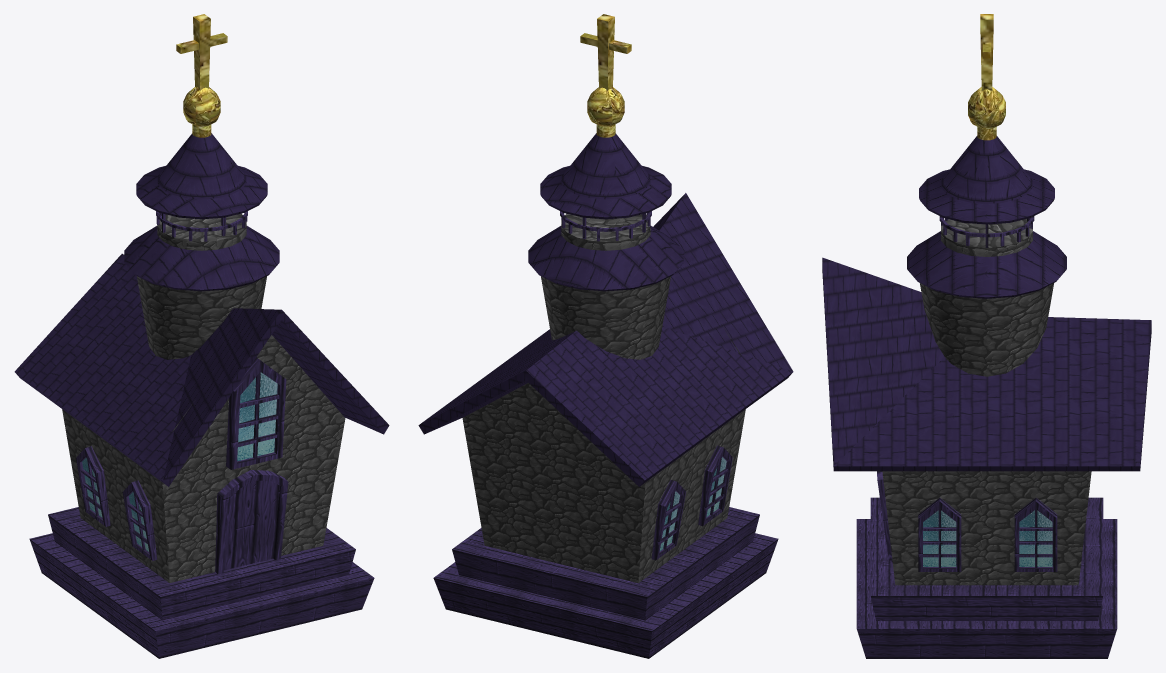
File: Chiesa 1.FBX
The picture shows the model from 3 angles, left to right: view 1: azimuth 30°, elevation 25°; view 2: azimuth 150°, elevation 25°; view 3: azimuth 270°, elevation 25°; orthographic projection. The views are drawn at different scales.
Size of the model in its own units: 0.8277 by 2 by 1.01.
Materials: 5 (5 with a texture image).
